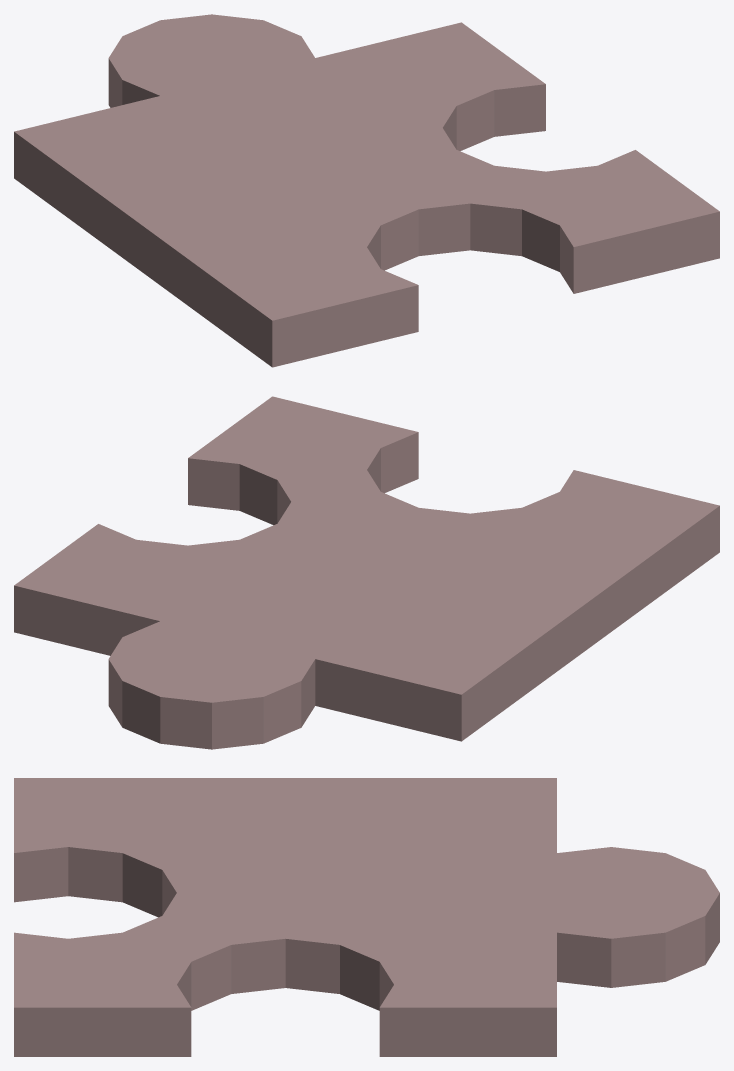
File: Puzzle_08_MOD.fbx
The picture shows the model from 3 angles, top to bottom: view 1: azimuth 30°, elevation 25°; view 2: azimuth 150°, elevation 25°; view 3: azimuth 270°, elevation 25°; orthographic projection. The views are drawn at different scales.
Visible parts, largest first — view 1: polySurface46; view 2: polySurface46; view 3: polySurface46.
Part boxes in pixels (bbox=[...]): polySurface46: bbox=[14, 14, 719, 367]; polySurface46: bbox=[14, 396, 719, 749]; polySurface46: bbox=[14, 778, 719, 1056].
Bounding box in the file's own units: 5 × 0.5 × 6.5.
